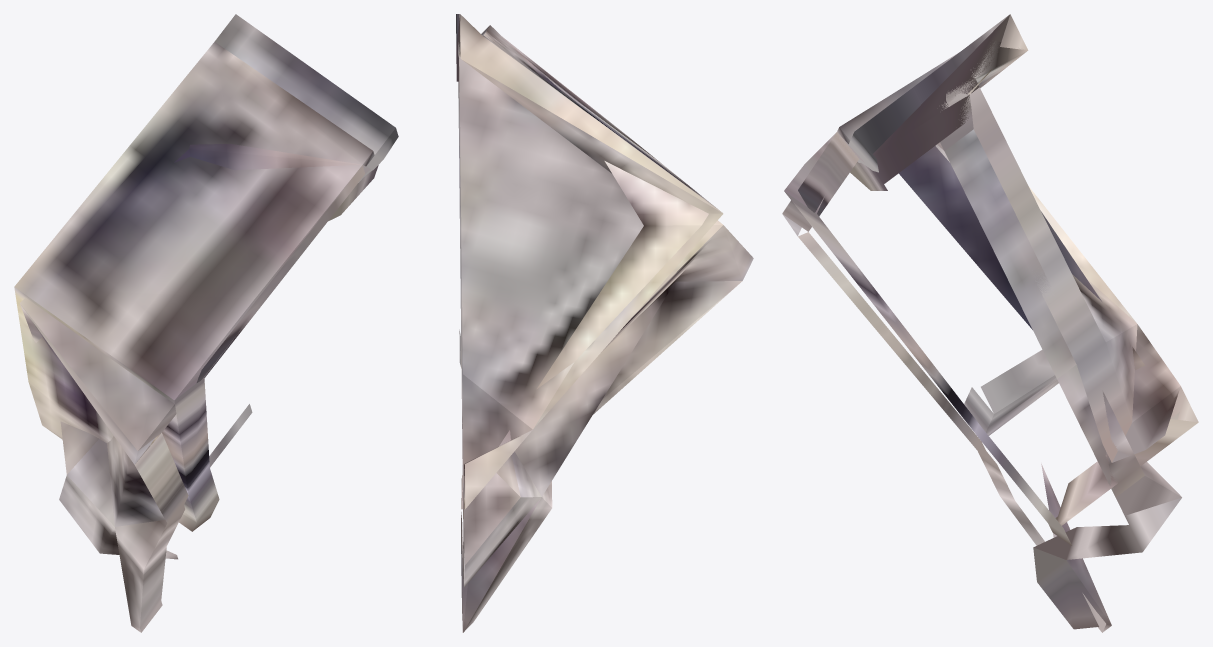
3 views of the same model, side by side, from view 1: azimuth 30°, elevation 25°; view 2: azimuth 150°, elevation 25°; view 3: azimuth 270°, elevation 25° (orthographic). The views are drawn at different scales.
Bounding box in the file's own units: 10.03 × 17.39 × 10.22.
Materials: 1 (1 with a texture image).
